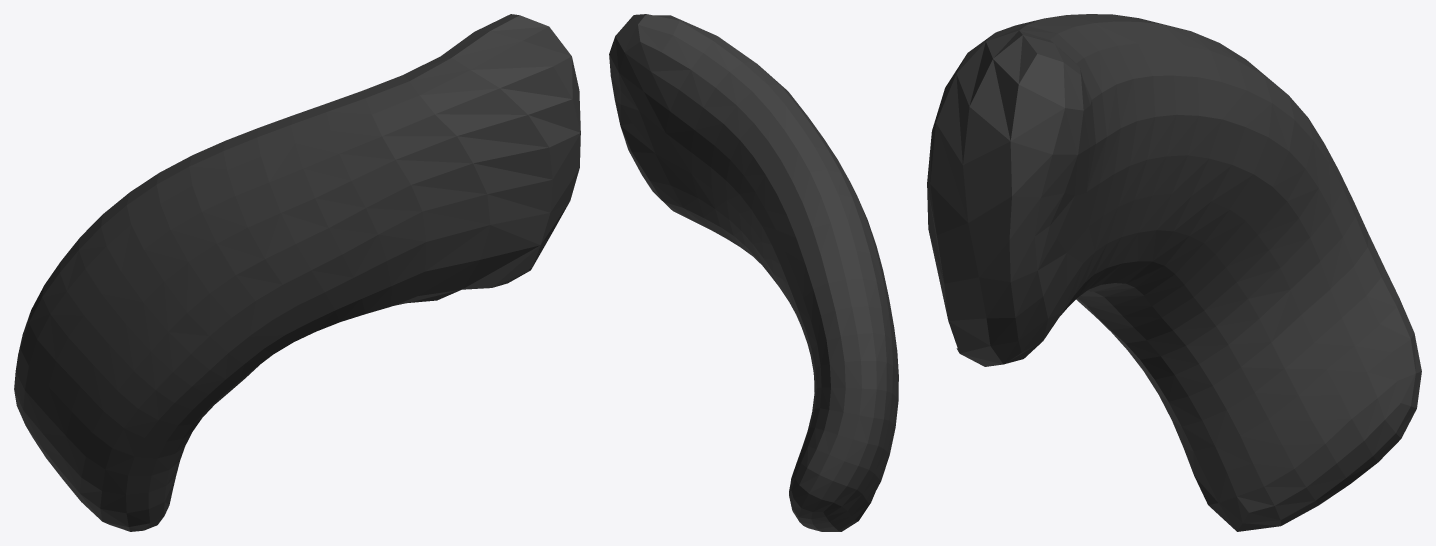
File: Patellar_cartilage.glb
The picture shows the model from 3 angles, left to right: view 1: azimuth 30°, elevation 25°; view 2: azimuth 150°, elevation 25°; view 3: azimuth 270°, elevation 25°; orthographic projection. The views are drawn at different scales.
Parts seen in each view (by area): view 1: Patellar_cartilage; view 2: Patellar_cartilage; view 3: Patellar_cartilage.
Part boxes in pixels (left/top/right/bottom): Patellar_cartilage: left=14, top=14, right=580, bottom=531; Patellar_cartilage: left=609, top=14, right=898, bottom=531; Patellar_cartilage: left=927, top=14, right=1421, bottom=531.
Bounding box in the file's own units: 89.52 × 96 × 64.13.
Materials: 1 (1 with a texture image).
